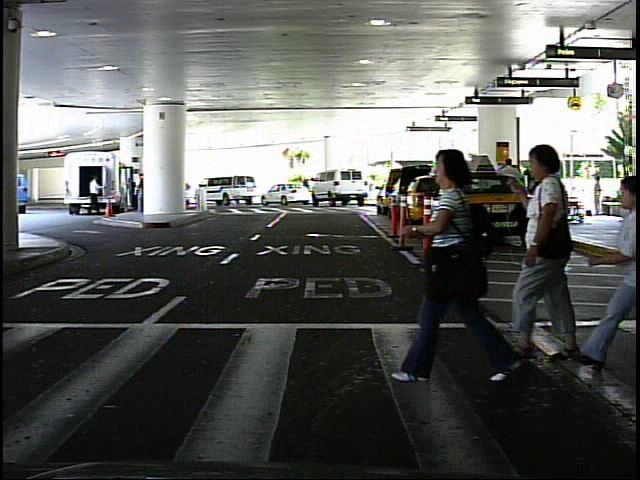person: (504, 133, 605, 377), (412, 135, 506, 392), (87, 170, 105, 220), (588, 172, 607, 218)
